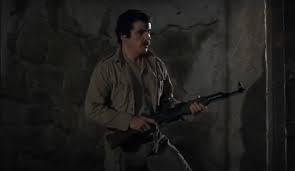rifle: (104, 81, 246, 149)
